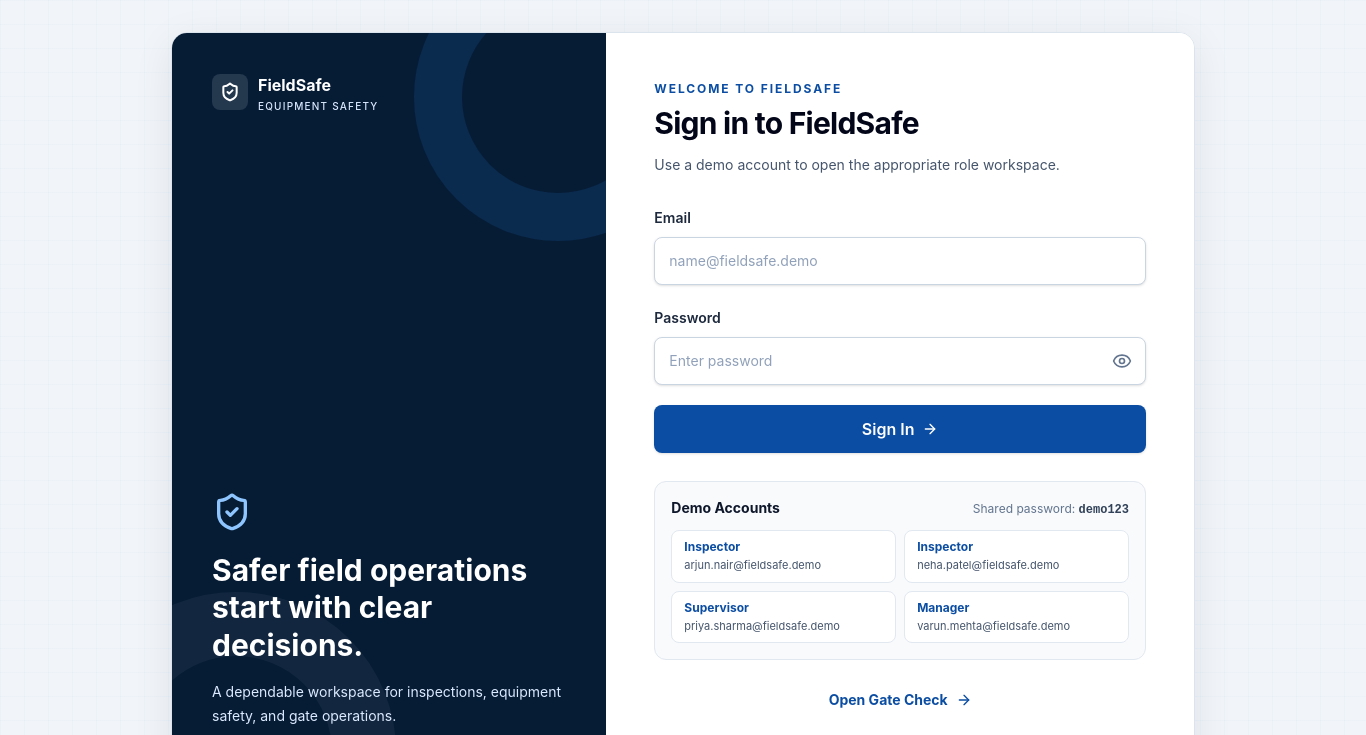
it: authentication routing › routes a successful Manager login to /manager
Expected: the heading "Sign in to FieldSafe" is shown, [654,105,919,141]
Click the button "Manager varun.mehta@fieldsafe.demo".
click(1017, 617)  # box [904,590,1129,643]
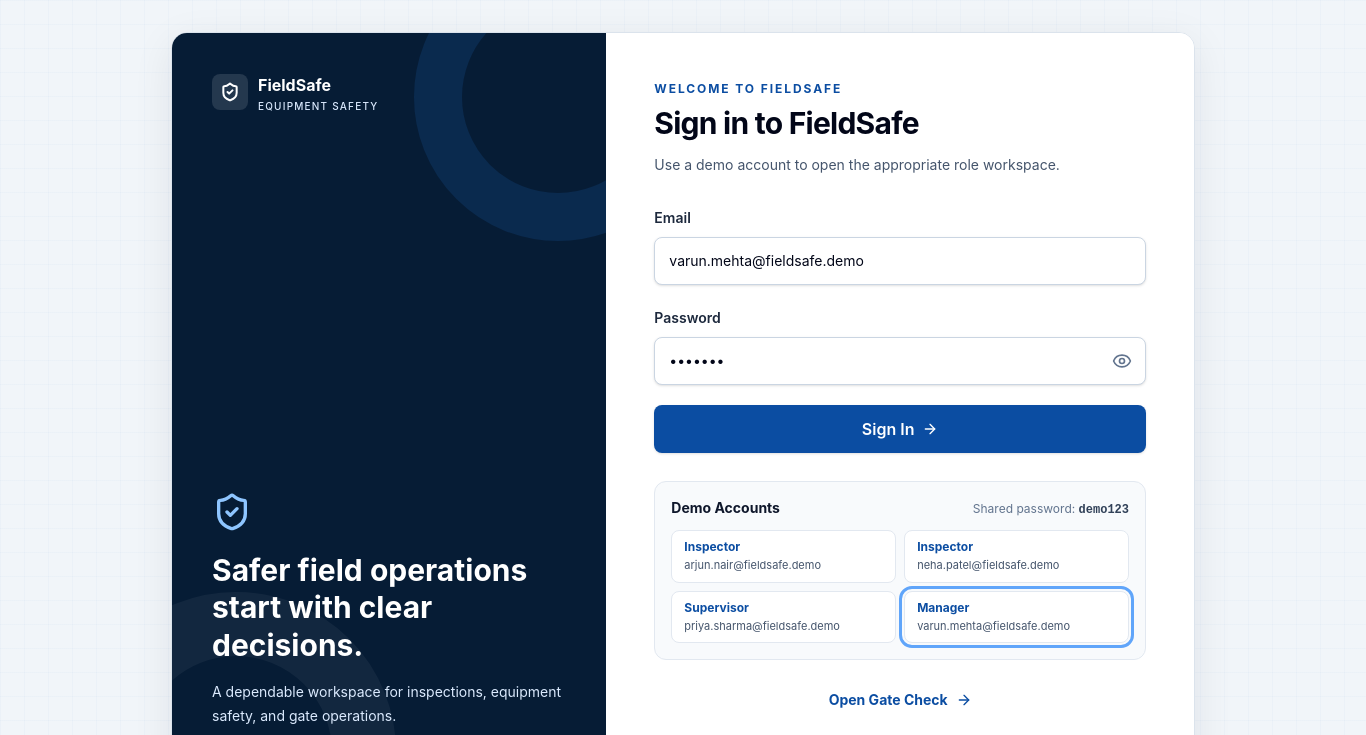
Click the button "Sign In".
click(900, 429)  # box [654,405,1146,453]
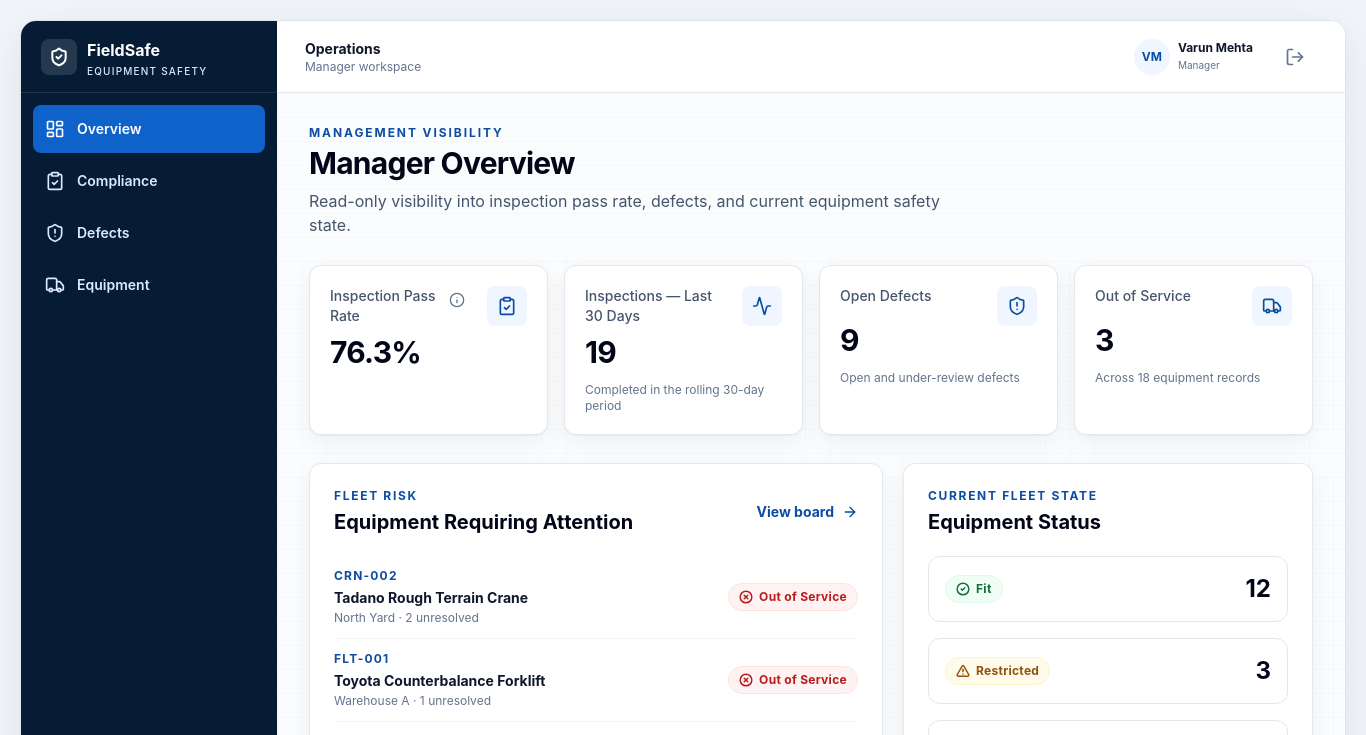
Expected: the heading "Manager Overview" is shown, [309,145,575,181]
